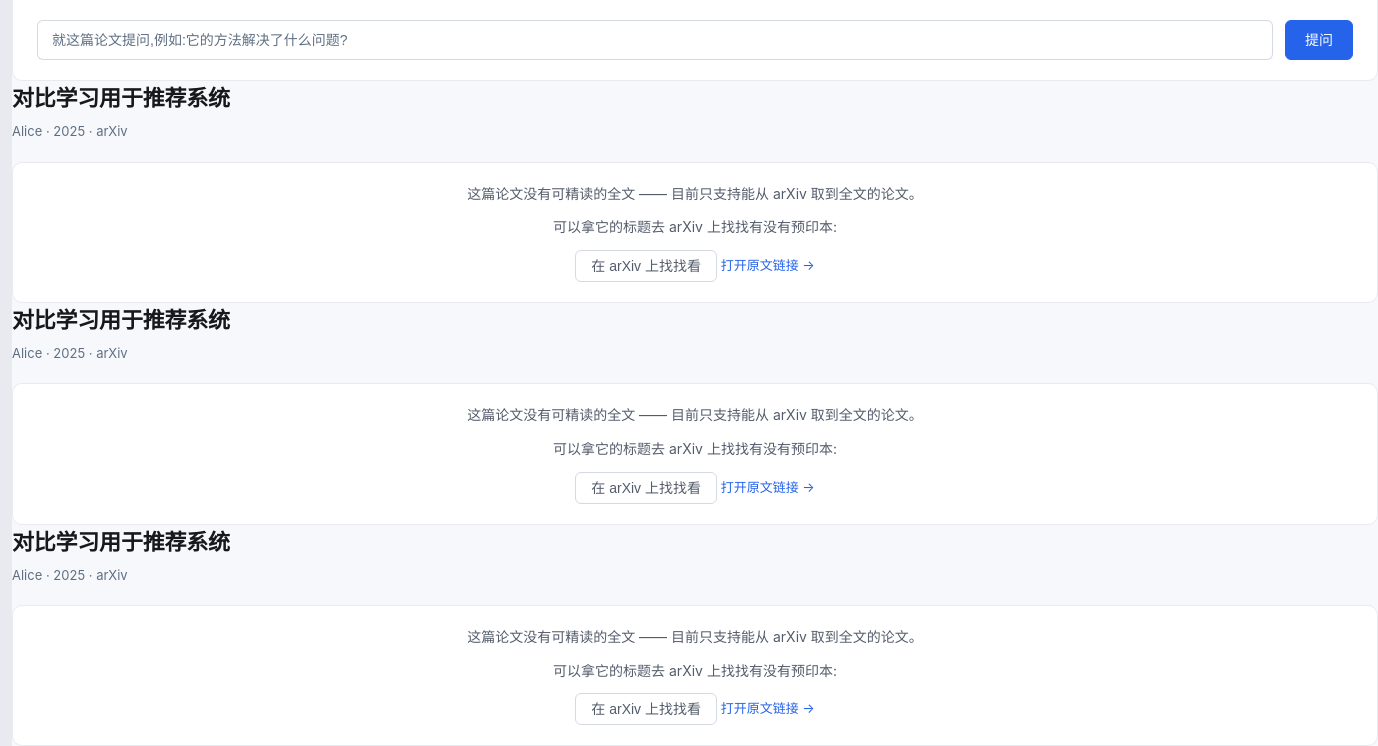
Test: PaperReadingView › 找到预印本后当场就能提问,不用刷新页面
The width and height of the screenshot is (1378, 746).
(page scrolled)
Click the 3rd button "在 arXiv 上找找看" at (646, 709), box [575,693,717,725]
(page scrolled)
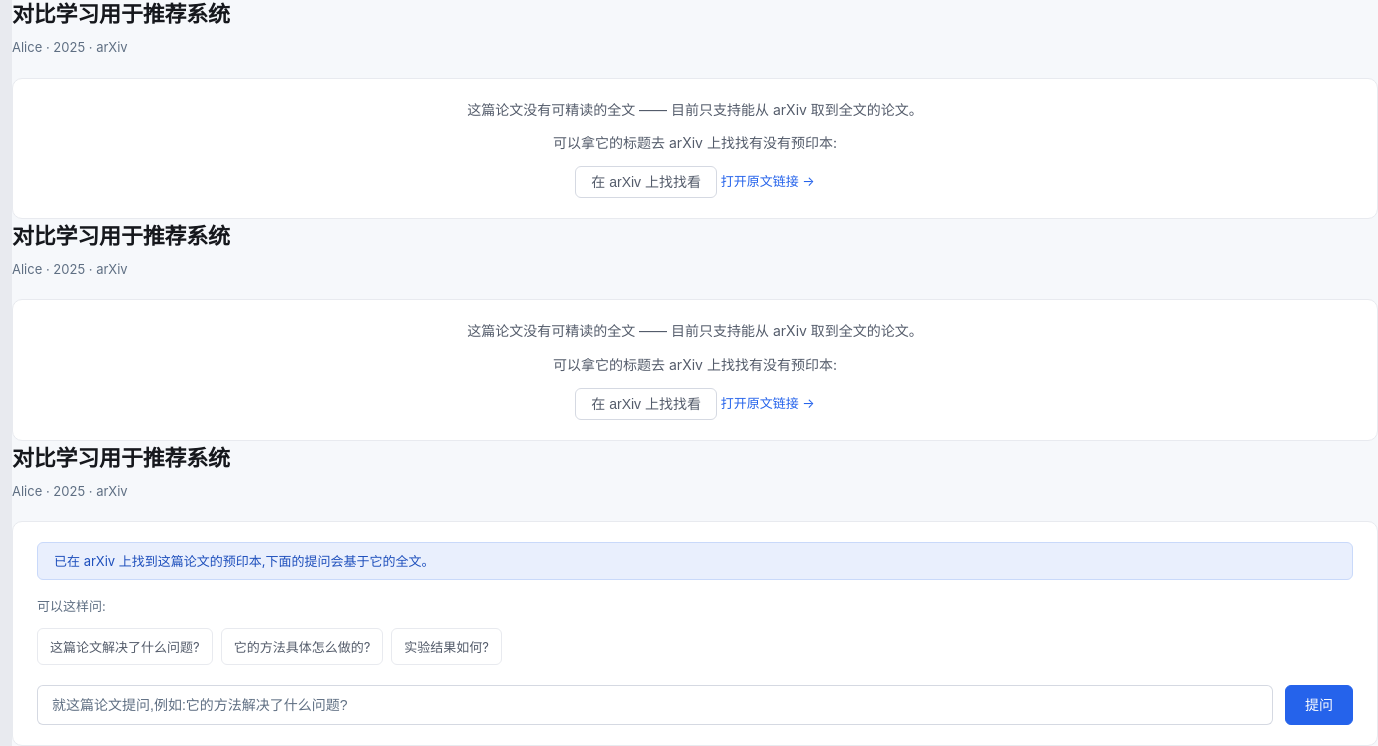
Now the text with class "found" shows "找到", box [37,542,1353,580]
Now the field with placeholder "就这篇论文提问,例如:它的方法解决了什么问题?" is shown, box [52,686,1258,724]
